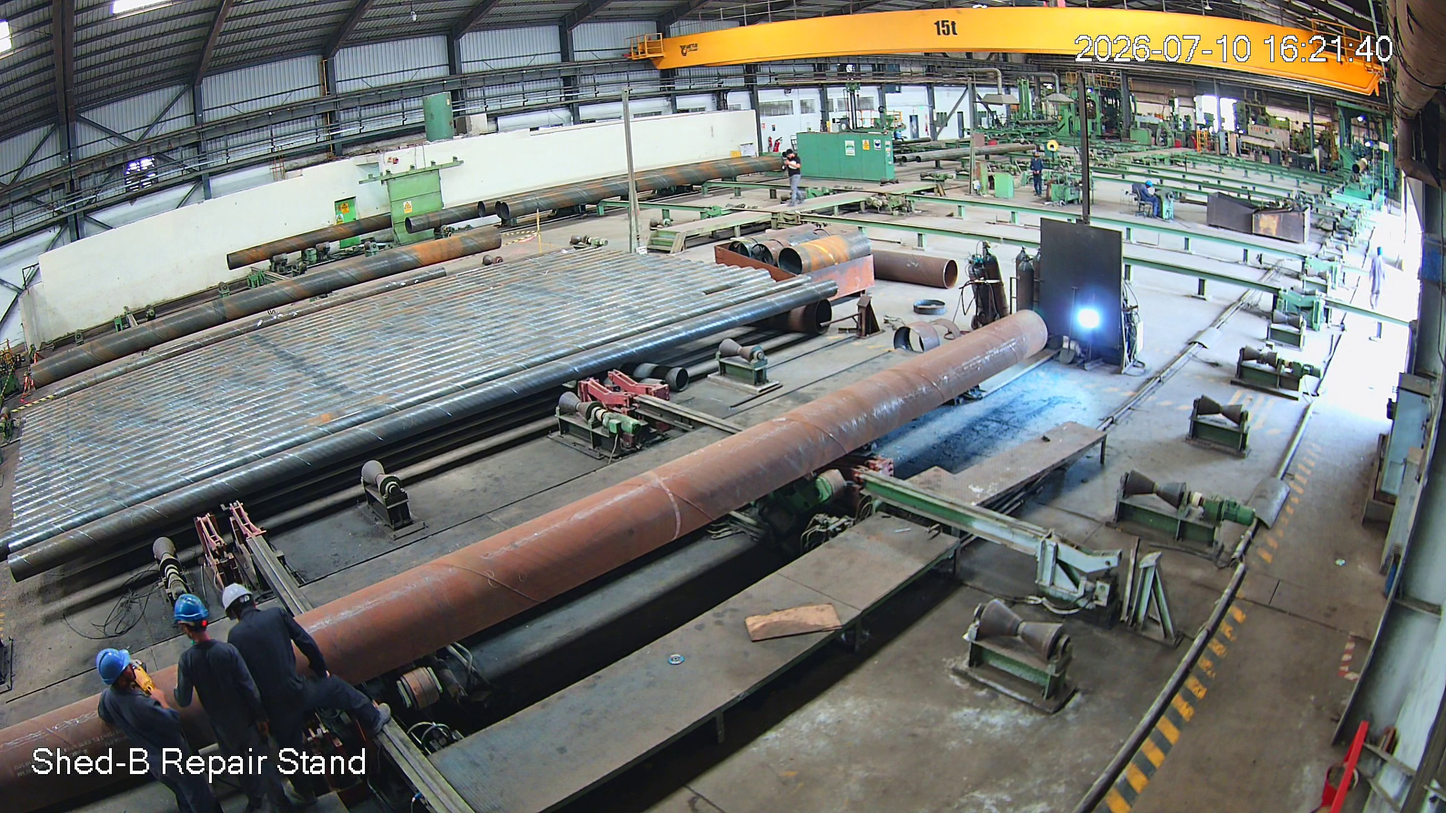Helmet: (80, 645, 152, 703), (163, 589, 213, 642), (216, 577, 268, 624)
Person: (87, 643, 203, 813), (171, 593, 266, 793), (201, 595, 288, 813)
